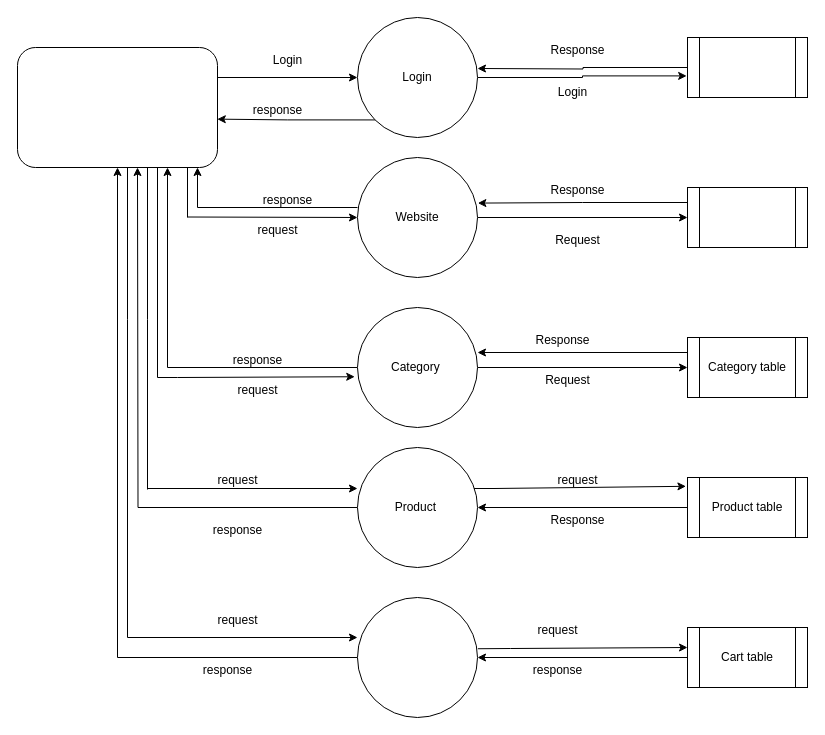
Some shapes in this 825 by 735 pixel diagram are drawn without their labels. The shapes that lost their labels are listed below. From the top down, each one's box as (x1, y1, x2, y2) in pixels, then its label:
(686, 36, 808, 98): Login Table
(16, 46, 218, 168): Admin
(686, 186, 808, 248): Website table
(356, 596, 478, 718): Cart
